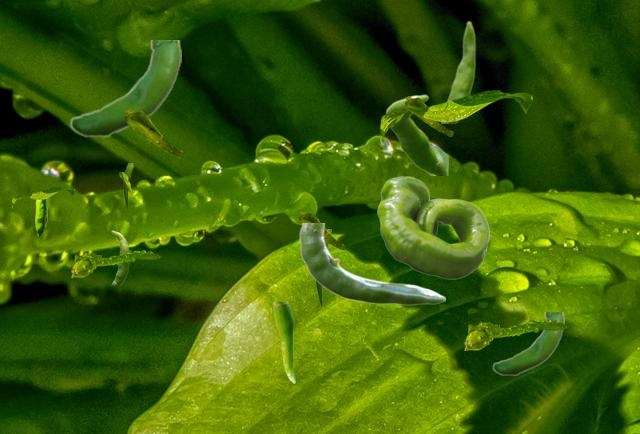green_chili: (299, 223, 444, 304), (377, 176, 488, 278), (69, 40, 180, 137), (385, 94, 447, 174), (492, 312, 563, 375), (446, 20, 475, 122), (273, 302, 294, 382), (315, 229, 330, 305), (111, 230, 129, 284), (35, 199, 46, 236), (123, 163, 132, 208)
